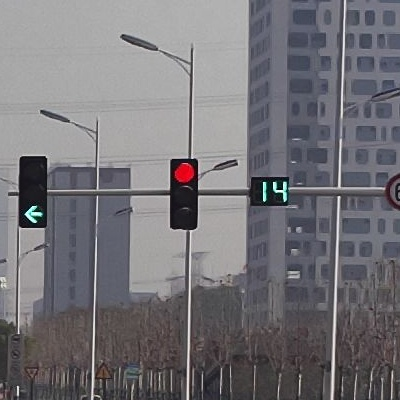green_arrow_left: (19, 156, 46, 228)
red_circle: (171, 159, 198, 230)
